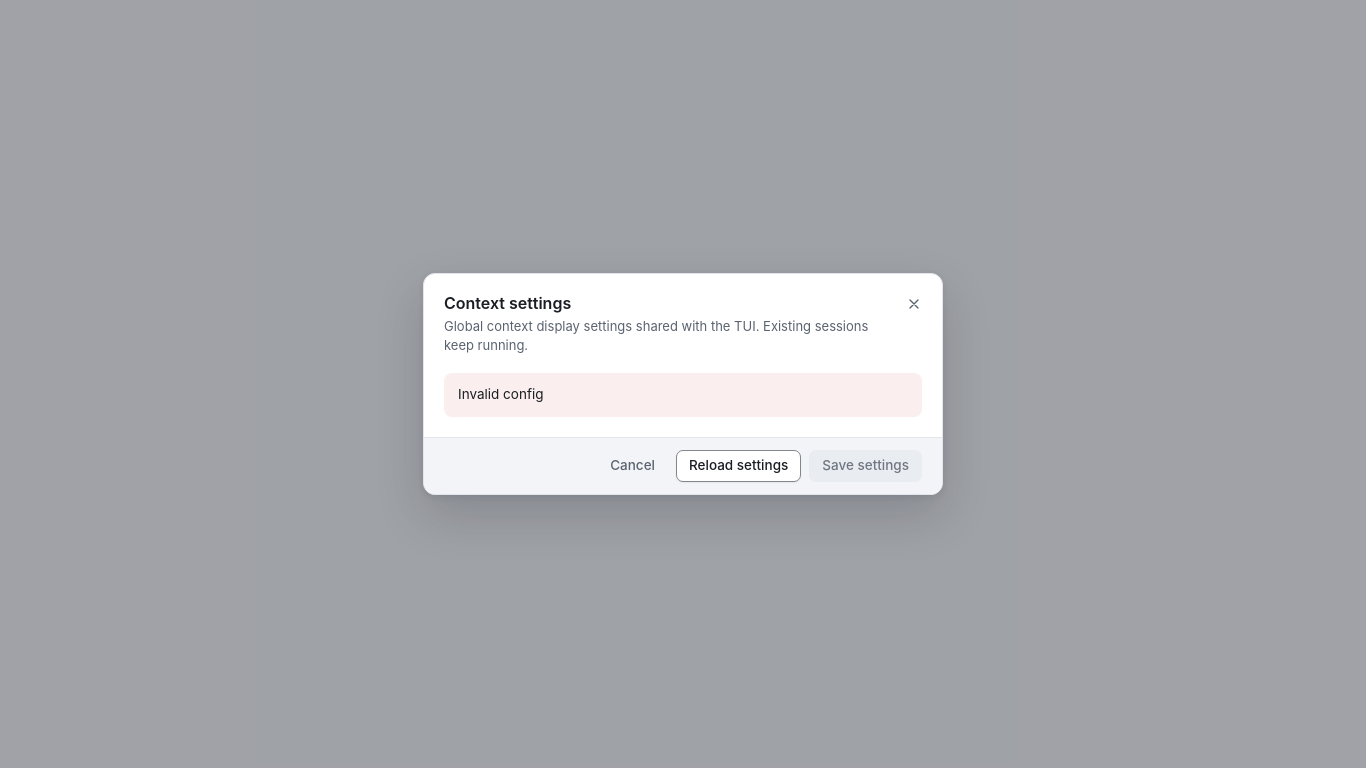
Test case: reports load failures and can retry
Expected: the message reads "Invalid config", [458,386,543,402]
Click the button "Reload settings" at (739, 466), box [676,450,801,482]
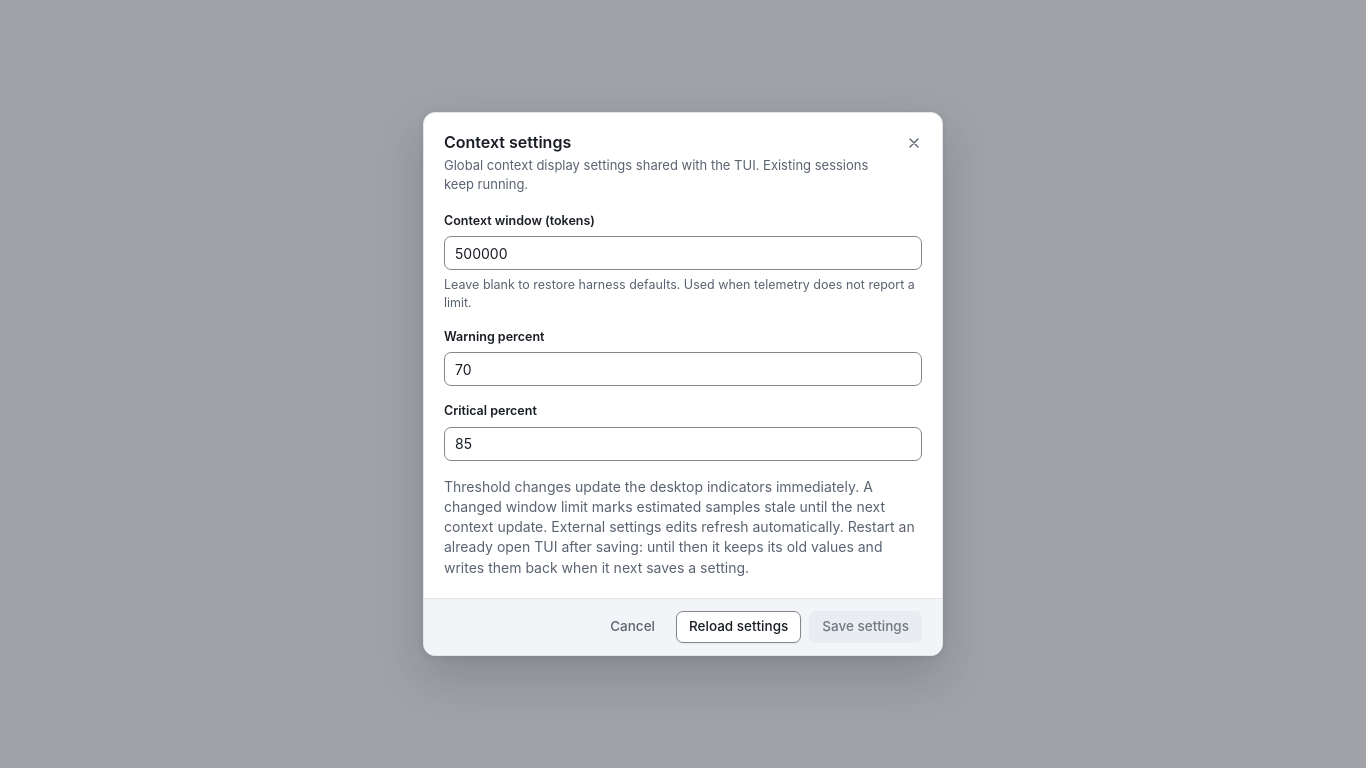
Result: the field showing "500000" is shown at [444,236,922,270]
